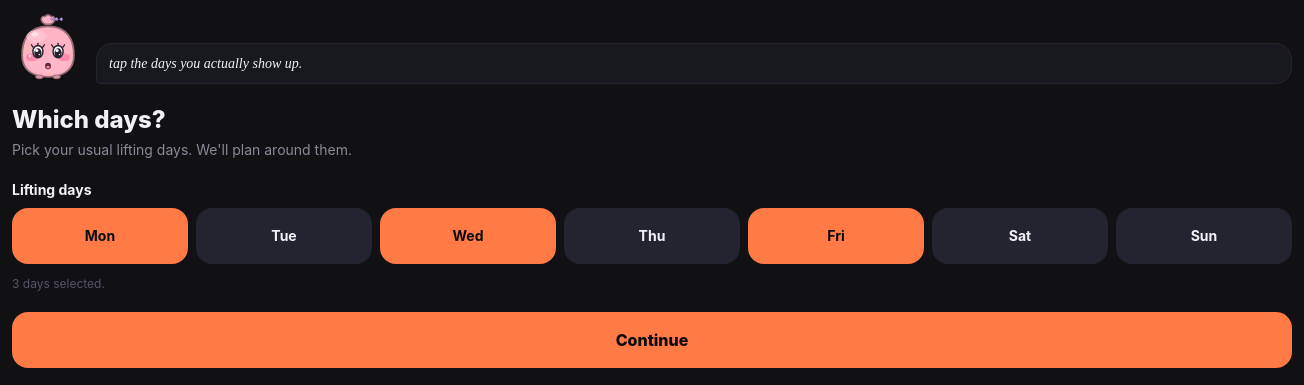
StepDays › shows "remove N day" hint when too many picked
Click the checkbox with test id "onboarding-day-5": (1020, 236) [932,208,1108,264]
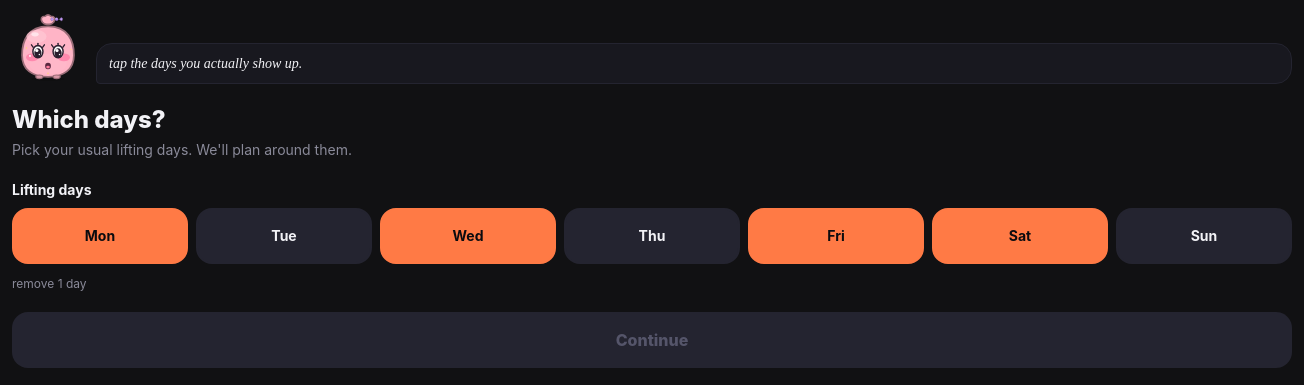
Result: the text with test id "onboarding-days-hint" reads "remove 1 day" at [12,276,87,291]
Result: the button with test id "onboarding-days-continue" is disabled at [12,312,1292,368]
